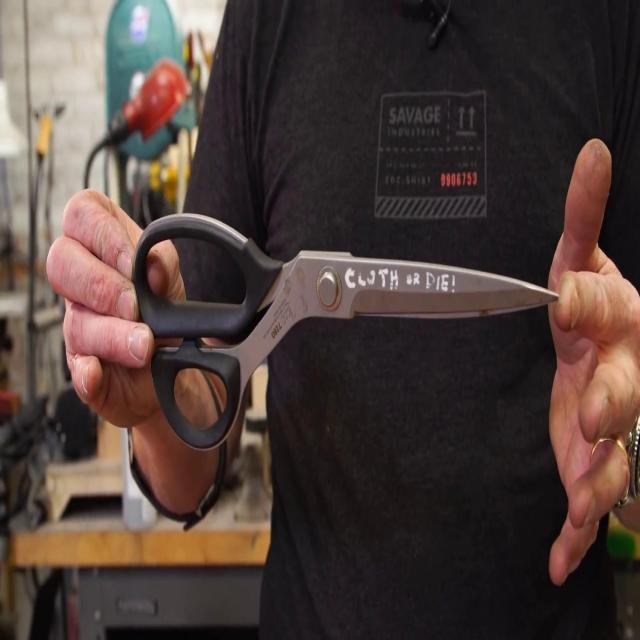scissor: (132, 215, 560, 451)
